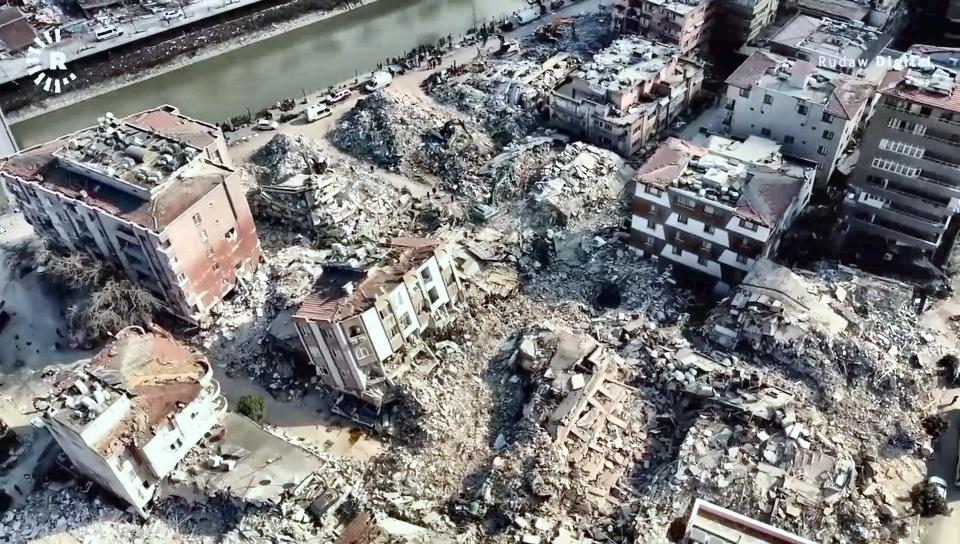kapali: (288, 392, 642, 543)
